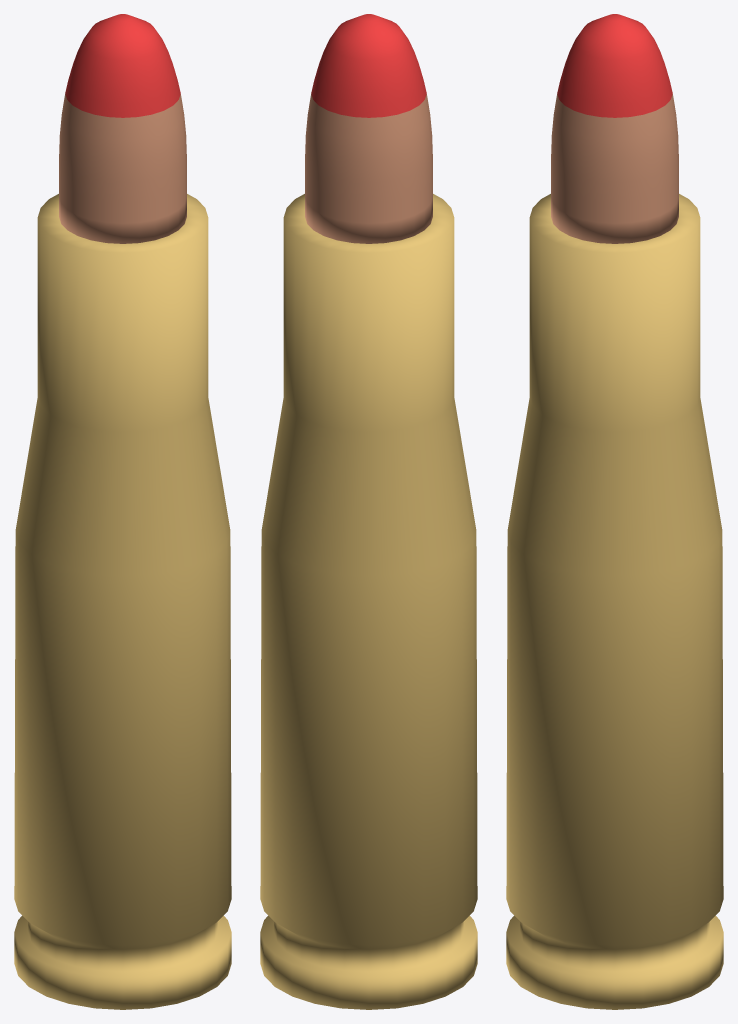
The picture shows the model from 3 angles, left to right: view 1: azimuth 30°, elevation 25°; view 2: azimuth 150°, elevation 25°; view 3: azimuth 270°, elevation 25°; orthographic projection.
Visible parts, largest first — view 1: vaina, bala_cuerpo, punta; view 2: vaina, bala_cuerpo, punta; view 3: vaina, bala_cuerpo, punta.
Boxes of the visible parts, x1,y1,x2,y2 form: vaina: [14, 194, 231, 1009]; bala_cuerpo: [59, 94, 186, 243]; punta: [65, 14, 180, 117]; vaina: [260, 194, 477, 1009]; bala_cuerpo: [305, 94, 432, 243]; punta: [311, 14, 426, 117]; vaina: [506, 194, 723, 1009]; bala_cuerpo: [551, 94, 678, 243]; punta: [557, 14, 672, 117].
Size of the model in its own units: 0.0079 by 0.038 by 0.0079.
